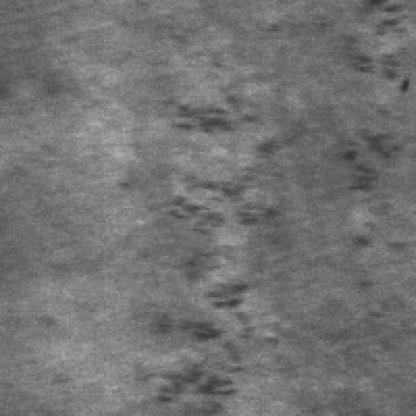rolled-in_scale: (141, 89, 278, 414), (339, 96, 397, 270), (328, 0, 412, 87)
